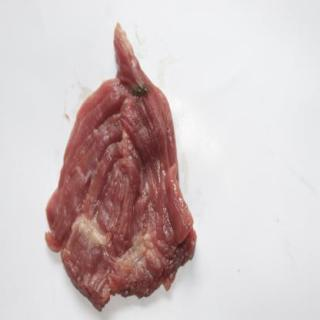Daging Sapi: (47, 25, 198, 312)
